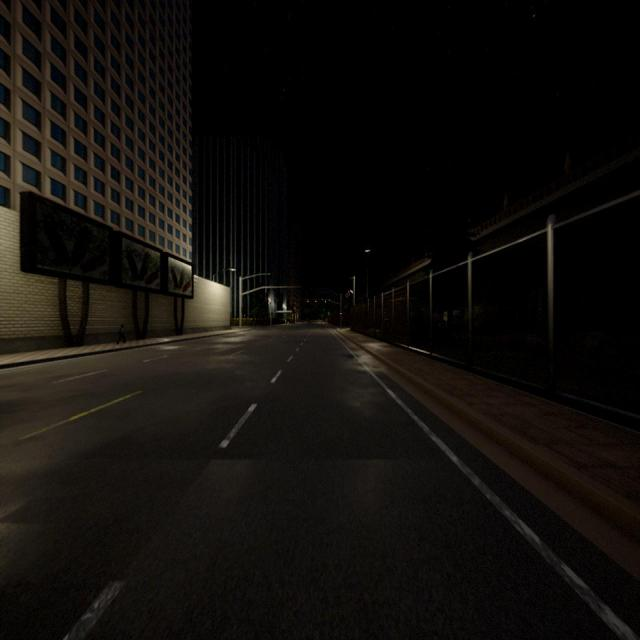Pedestrian: (116, 323, 126, 345)
traffic_light: (307, 299, 309, 303), (315, 300, 317, 303), (324, 300, 326, 303), (340, 312, 342, 315)
